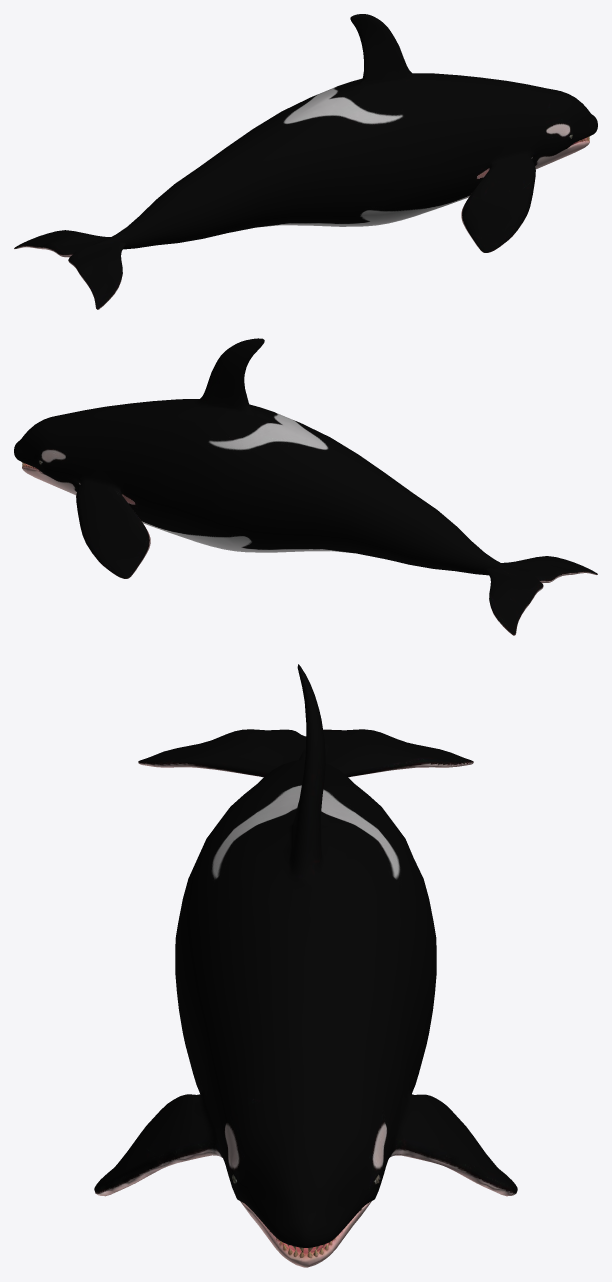
File: scan_orca.glb
3 views of the same model, one above another, from view 1: azimuth 30°, elevation 25°; view 2: azimuth 150°, elevation 25°; view 3: azimuth 270°, elevation 25° (orthographic). The views are drawn at different scales.
Parts seen in each view (by area): view 1: scan_orca; view 2: scan_orca; view 3: scan_orca.
Boxes of the visible parts, x1=… form: scan_orca: x1=14, y1=14, x2=597, y2=309; scan_orca: x1=14, y1=338, x2=597, y2=635; scan_orca: x1=94, y1=664, x2=517, y2=1267.
Size of the model in its own units: 7 by 2.73 by 2.37.
1 material, 1 textured.
